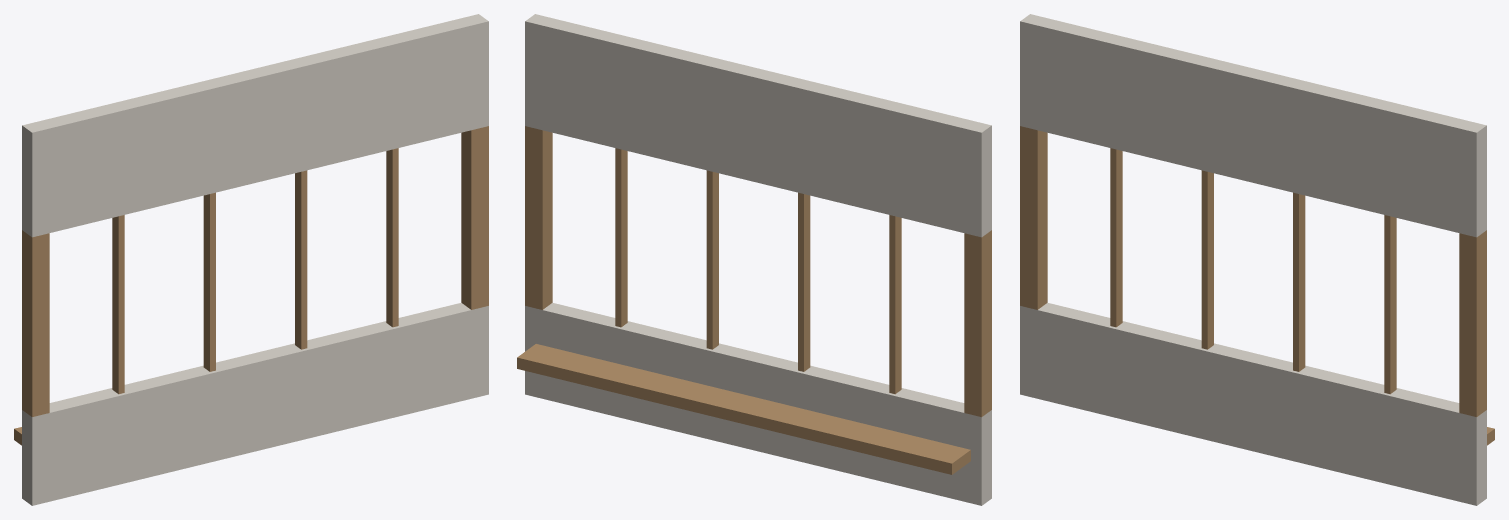
File: forest-window.glb
3 renders of one model, left to right at view 1: azimuth 30°, elevation 25°; view 2: azimuth 150°, elevation 25°; view 3: azimuth 330°, elevation 25°, orthographic.
Visible parts, largest first — view 1: Head, Sill, JambL, JambR, Mullion2, Mullion3, Mullion0, Mullion1; view 2: Head, Sill, Stool, JambL, JambR, Mullion2, Mullion3, Mullion0, Mullion1; view 3: Head, Sill, JambR, JambL, Mullion1, Mullion0, Mullion3, Mullion2.
Part boxes in pixels (box(x1,y1,x2,y2)): Head: box(22, 14, 488, 237); Sill: box(22, 302, 488, 505); JambL: box(22, 230, 49, 416); JambR: box(461, 126, 488, 309); Mullion2: box(295, 170, 307, 349); Mullion3: box(386, 148, 398, 327); Mullion0: box(112, 215, 124, 394); Mullion1: box(203, 192, 215, 371); Head: box(525, 14, 991, 237); Sill: box(525, 302, 991, 505); Stool: box(517, 344, 970, 474); JambL: box(964, 230, 991, 417); JambR: box(525, 126, 552, 309); Mullion2: box(706, 170, 718, 349); Mullion3: box(615, 148, 627, 327); Mullion0: box(889, 215, 901, 394); Mullion1: box(798, 192, 810, 371); Head: box(1020, 14, 1486, 237); Sill: box(1020, 302, 1486, 505); JambR: box(1459, 230, 1486, 416); JambL: box(1020, 126, 1047, 309); Mullion1: box(1201, 170, 1213, 349); Mullion0: box(1110, 148, 1122, 327); Mullion3: box(1384, 215, 1396, 394); Mullion2: box(1293, 192, 1305, 371).
Size of the model in its own units: 4.2 by 3.28 by 0.46.
